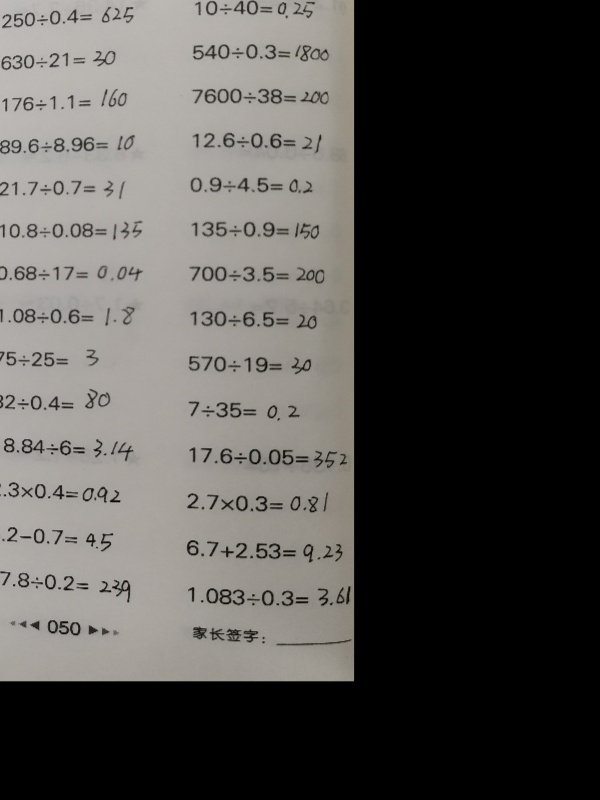equation: (183, 582, 354, 609), (182, 537, 346, 564), (185, 444, 354, 469), (0, 570, 134, 600), (184, 489, 332, 516), (0, 258, 148, 285), (0, 433, 136, 460), (188, 128, 324, 155), (0, 218, 145, 243), (188, 39, 333, 64), (0, 303, 138, 329), (0, 86, 130, 113), (0, 4, 136, 29), (188, 85, 334, 108), (186, 306, 320, 331), (184, 262, 328, 285), (184, 352, 314, 377), (188, 217, 322, 241), (0, 133, 138, 156), (0, 385, 113, 413), (0, 176, 128, 200), (0, 525, 116, 551), (0, 479, 124, 503), (186, 173, 315, 196), (0, 48, 119, 72), (185, 398, 303, 422), (191, 0, 318, 21), (0, 347, 111, 371)
